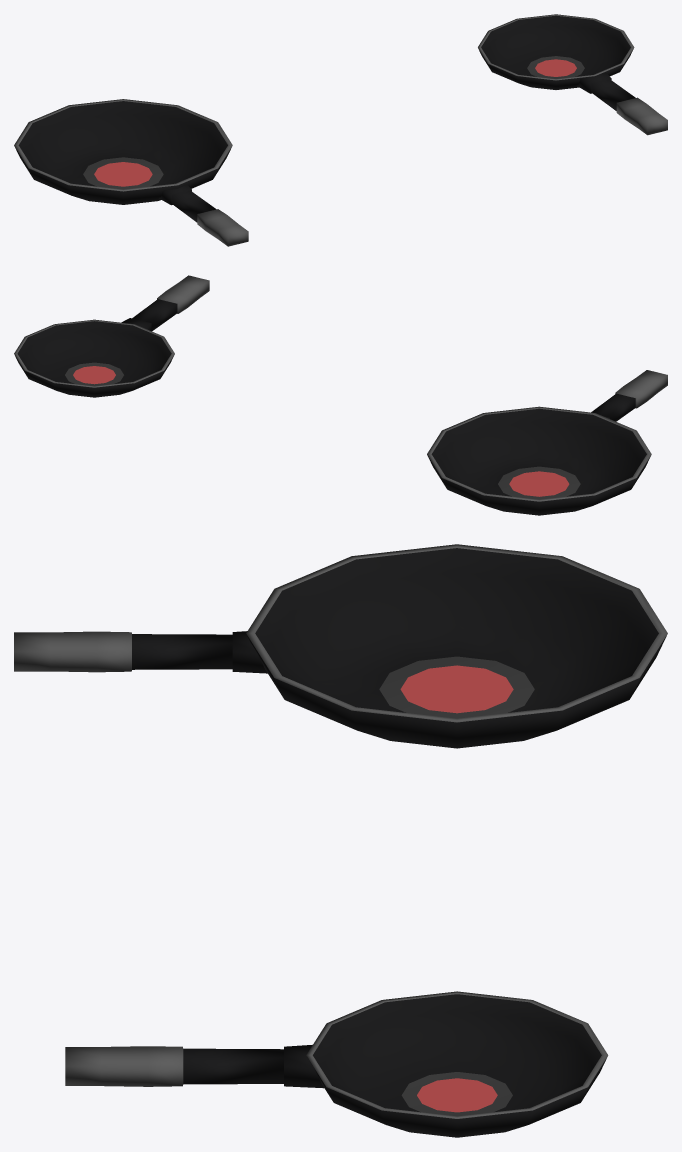
File: Frying Pans.fbx
3 views of the same model, one above another, from view 1: azimuth 30°, elevation 25°; view 2: azimuth 150°, elevation 25°; view 3: azimuth 270°, elevation 25° (orthographic). The views are drawn at different scales.
Parts seen in each view (by area): view 1: Frying Pan, Frying Pan_Small; view 2: Frying Pan, Frying Pan_Small; view 3: Frying Pan, Frying Pan_Small.
Boxes of the visible parts, bbox=[...] form: Frying Pan: bbox=[14, 99, 248, 246]; Frying Pan_Small: bbox=[478, 14, 667, 135]; Frying Pan: bbox=[427, 370, 667, 515]; Frying Pan_Small: bbox=[14, 275, 209, 397]; Frying Pan: bbox=[14, 544, 667, 748]; Frying Pan_Small: bbox=[65, 991, 608, 1137].
Bounding box in the file's own units: 1.38 × 0.079 × 0.6791.
